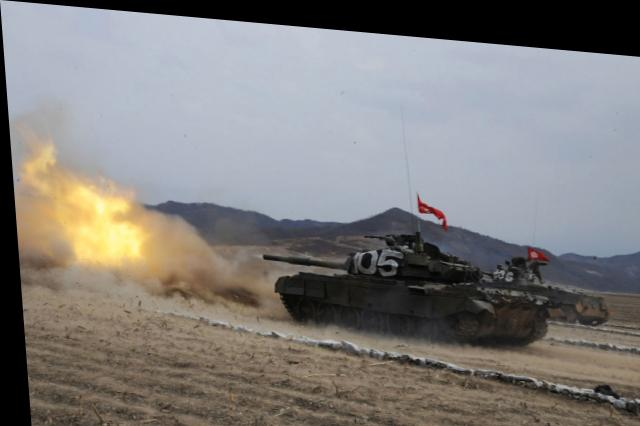tank: (255, 214, 546, 359)
